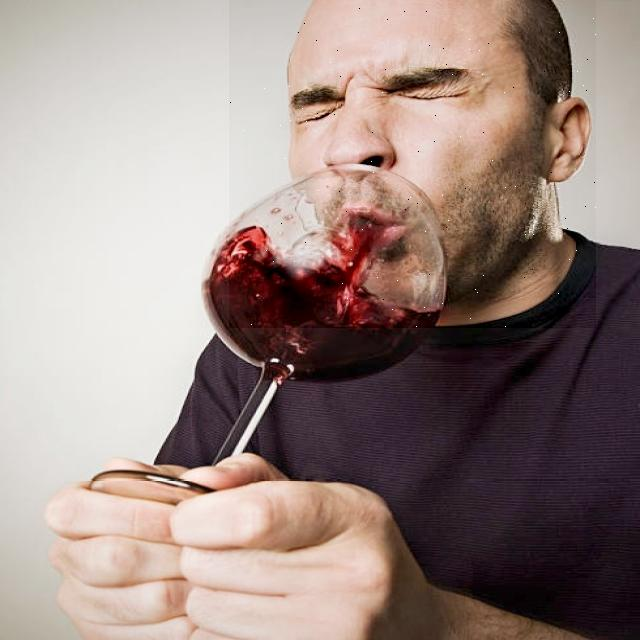Spitting: (229, 0, 596, 328)
